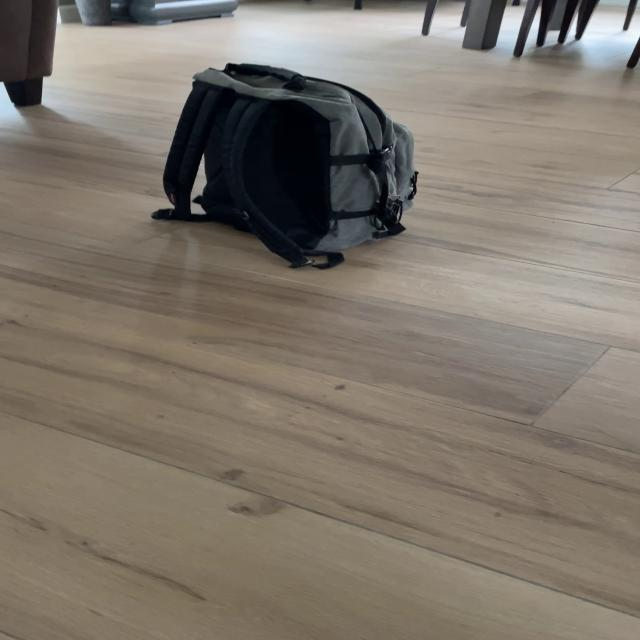backpack: (156, 48, 438, 268)
